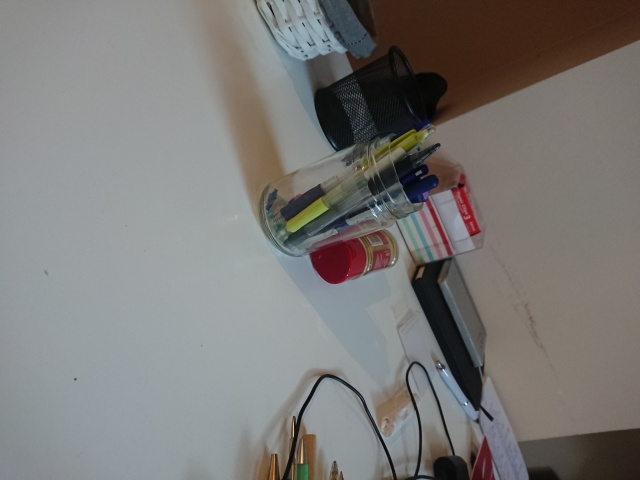Kotanyi Curry Spices Mix 70g: (297, 227, 401, 287)
